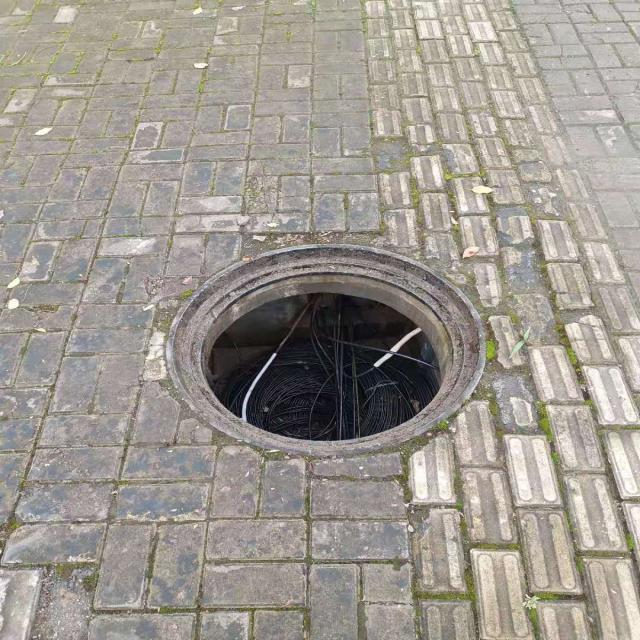Faulty: (164, 245, 483, 460)
